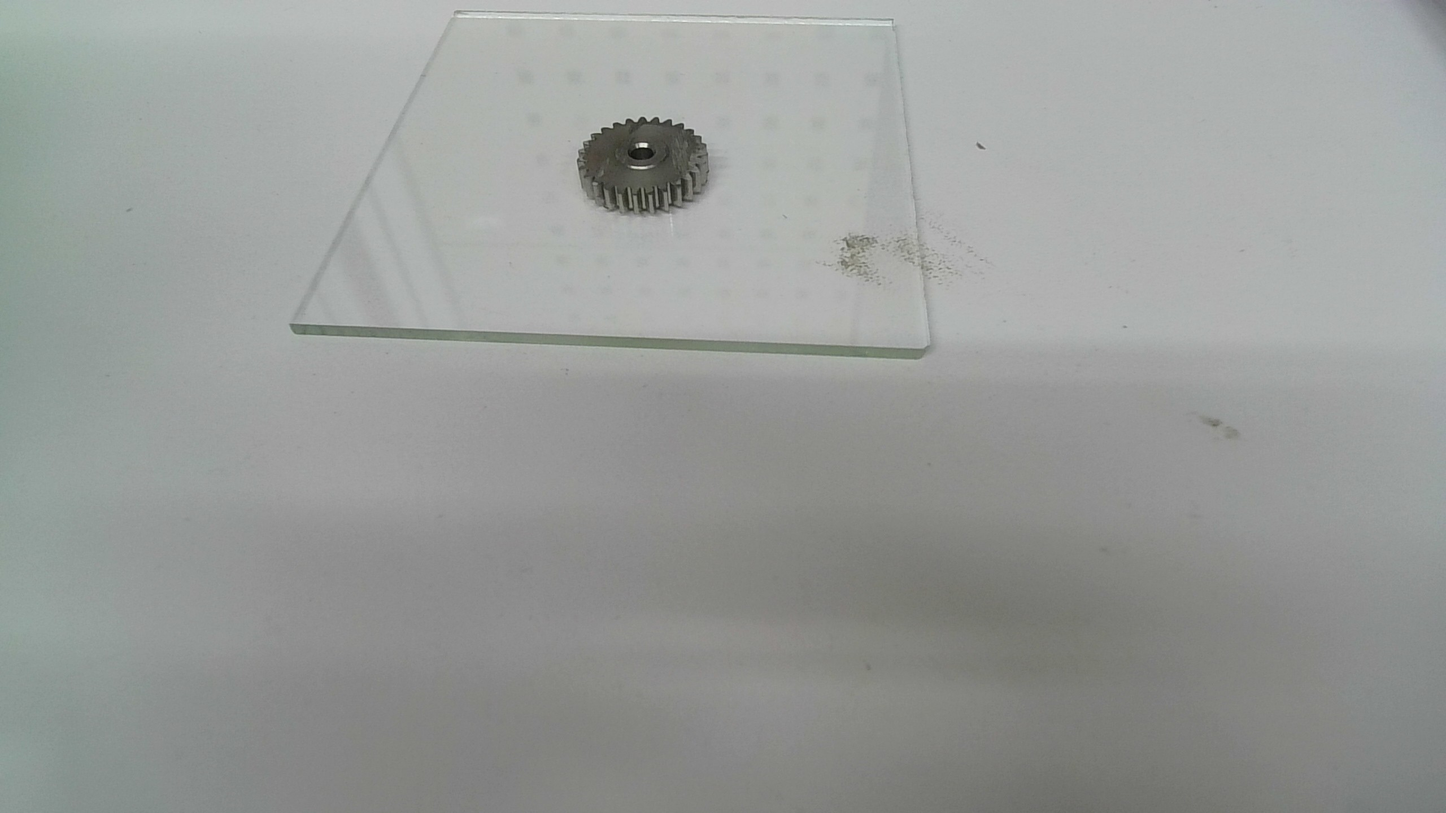gear: (575, 116, 711, 220)
